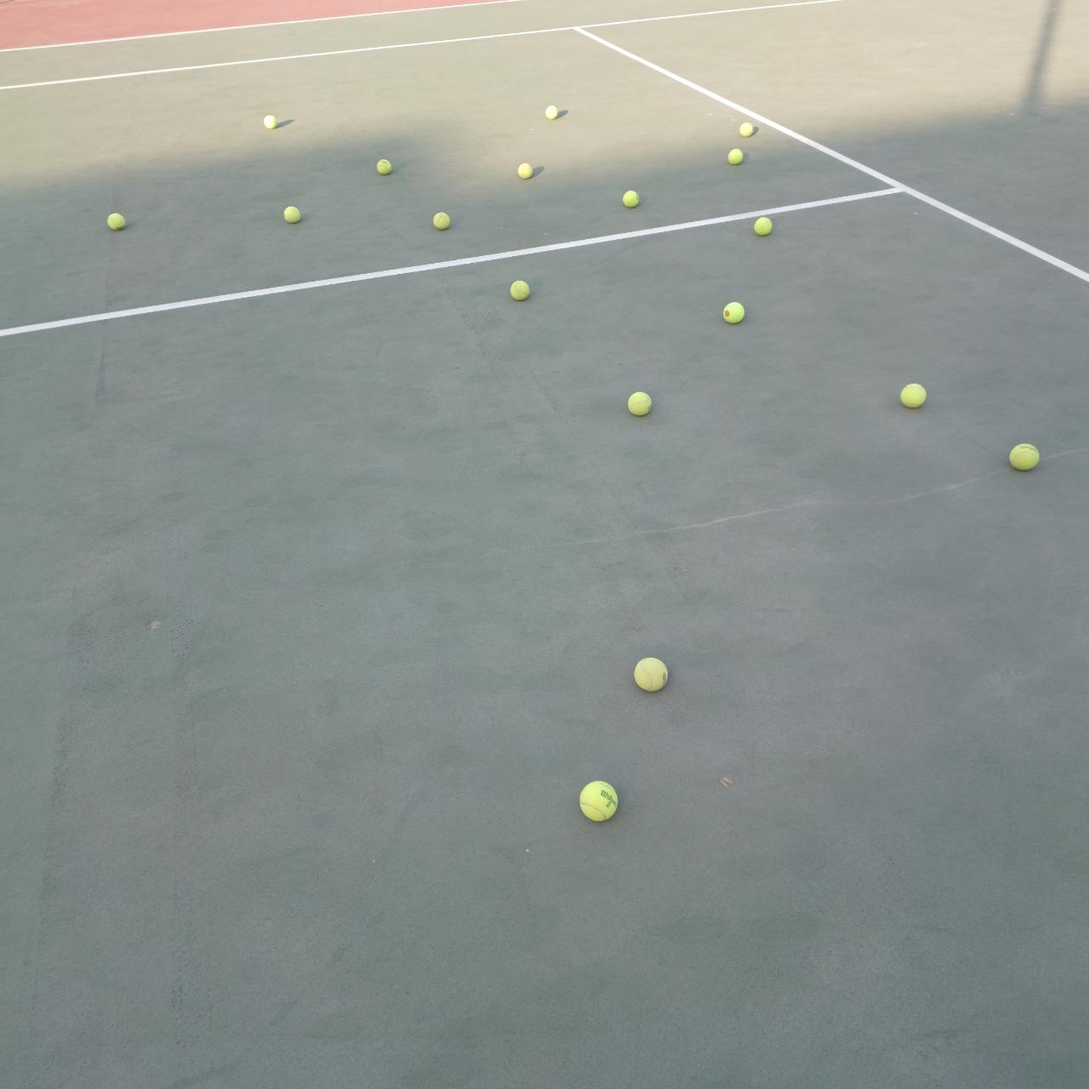tennis-ball: (578, 778, 619, 822), (632, 654, 669, 692), (1007, 440, 1040, 470), (898, 380, 927, 408), (625, 389, 652, 416), (721, 299, 744, 324), (105, 210, 126, 231), (752, 215, 772, 236), (510, 280, 529, 300), (621, 189, 640, 209), (432, 211, 451, 230), (516, 162, 533, 180), (284, 206, 301, 223), (727, 148, 744, 165), (376, 160, 393, 176), (739, 121, 754, 139), (545, 105, 558, 120), (264, 116, 277, 129)
